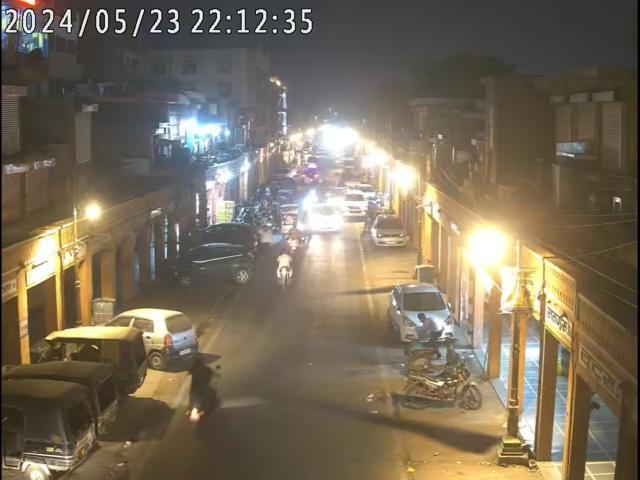auto: (0, 377, 100, 472)
car: (388, 282, 458, 352)
motorbike: (407, 366, 481, 408)
motorbike-rider: (182, 352, 226, 430)
scooty: (406, 342, 463, 370)
